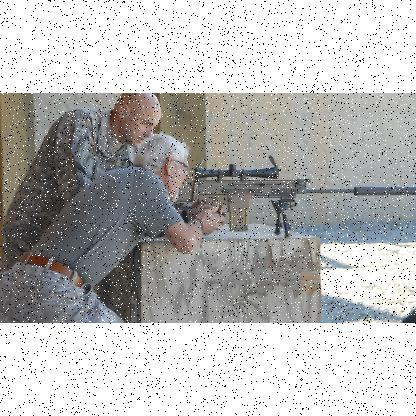gun: (173, 154, 415, 233)
